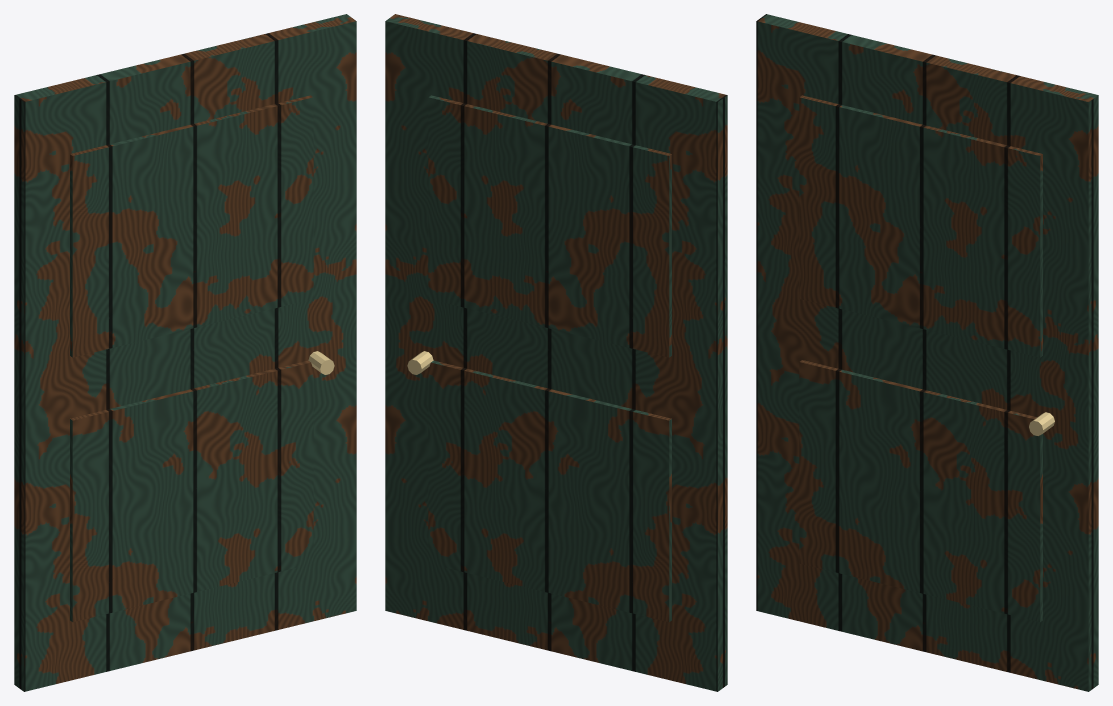
Rendered from door.glb.
3 views of the same model, side by side, from view 1: azimuth 30°, elevation 25°; view 2: azimuth 150°, elevation 25°; view 3: azimuth 330°, elevation 25° (orthographic).
Visible parts, largest first — view 1: door; view 2: door; view 3: door.
Part boxes in pixels (x1=…): door: x1=14, y1=14, x2=356, y2=691; door: x1=385, y1=14, x2=727, y2=691; door: x1=756, y1=14, x2=1098, y2=691.
Bounding box in the file's own units: 1.38 × 2.34 × 0.24.
2 materials, 1 textured.
